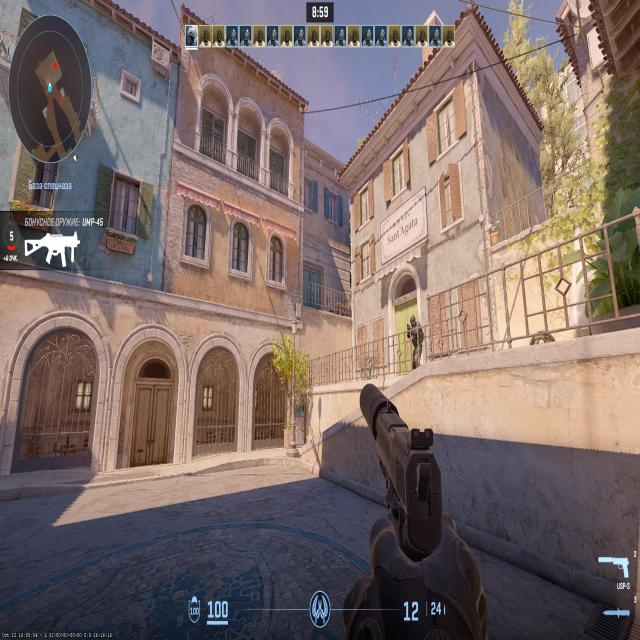CT: (410, 318, 423, 363)
CT_heat: (412, 320, 418, 330)
